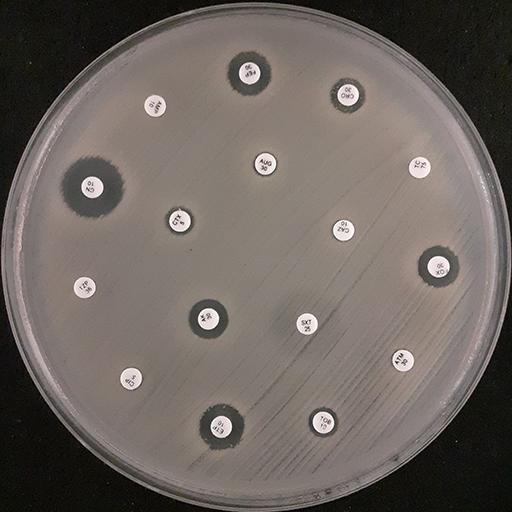disc: (239, 61, 262, 85), (254, 152, 277, 176), (169, 209, 192, 233), (296, 312, 319, 336), (392, 349, 415, 373), (210, 415, 233, 439), (120, 367, 143, 391), (337, 83, 360, 106), (144, 94, 167, 117), (408, 156, 431, 179), (81, 176, 104, 199), (74, 276, 97, 299), (197, 308, 220, 331), (312, 411, 335, 434), (427, 255, 450, 278), (333, 218, 355, 241)
